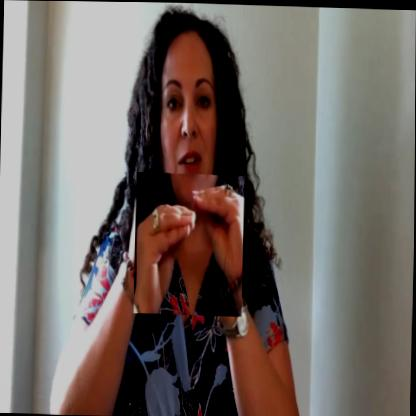Fix: (134, 171, 245, 315)
